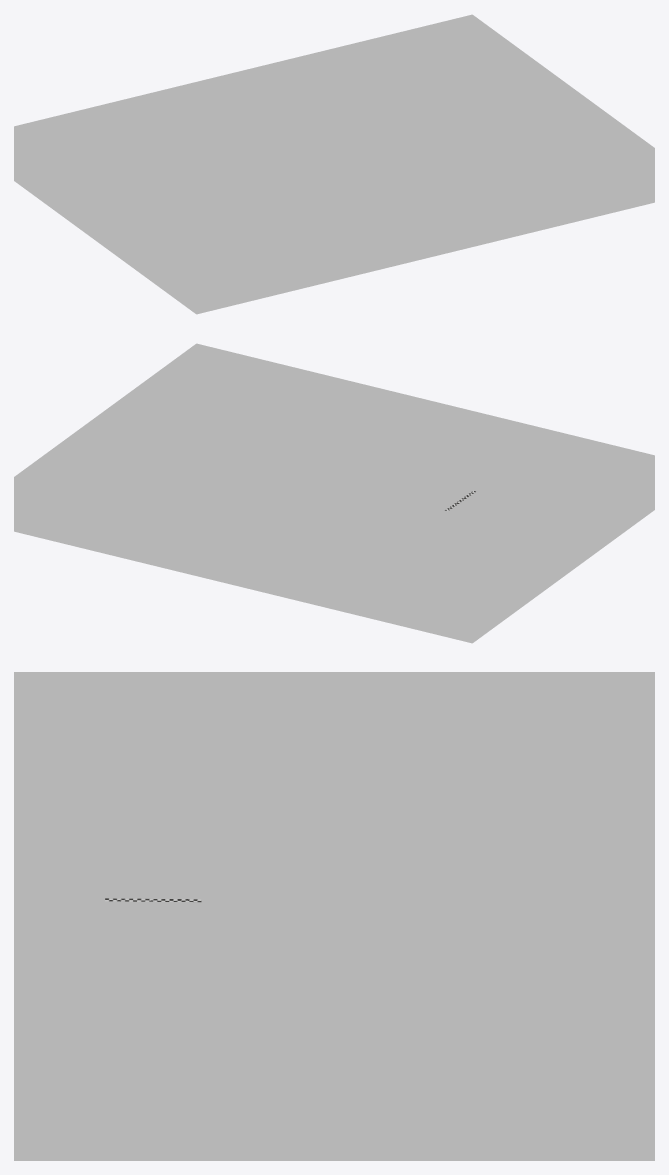
Rendered from reInvent2019_wide_cw.dae.
3 renders of one model, top to bottom at view 1: azimuth 30°, elevation 25°; view 2: azimuth 150°, elevation 25°; view 3: azimuth 270°, elevation 25°, orthographic. The views are drawn at different scales.
Visible parts, largest first — view 1: wall, field, road, ol, il; view 2: wall, field, road, ol, il, cl; view 3: wall, field, road, ol, il, cl.
Boxes of the visible parts, x1,y1,x2,y2 form: wall: [14, 14, 654, 314]; field: [70, 69, 598, 259]; road: [111, 148, 552, 257]; ol: [106, 146, 556, 258]; il: [164, 171, 502, 244]; wall: [14, 343, 654, 643]; field: [70, 398, 598, 577]; road: [161, 440, 537, 588]; ol: [157, 438, 541, 557]; il: [216, 462, 482, 579]; cl: [188, 451, 510, 585]; wall: [14, 672, 654, 1160]; field: [14, 768, 654, 1064]; road: [102, 805, 566, 1064]; ol: [94, 802, 574, 1064]; il: [198, 845, 470, 1064]; cl: [149, 825, 519, 1063].
Size of the model in its own units: 8.8 by 6.06 by 1.
